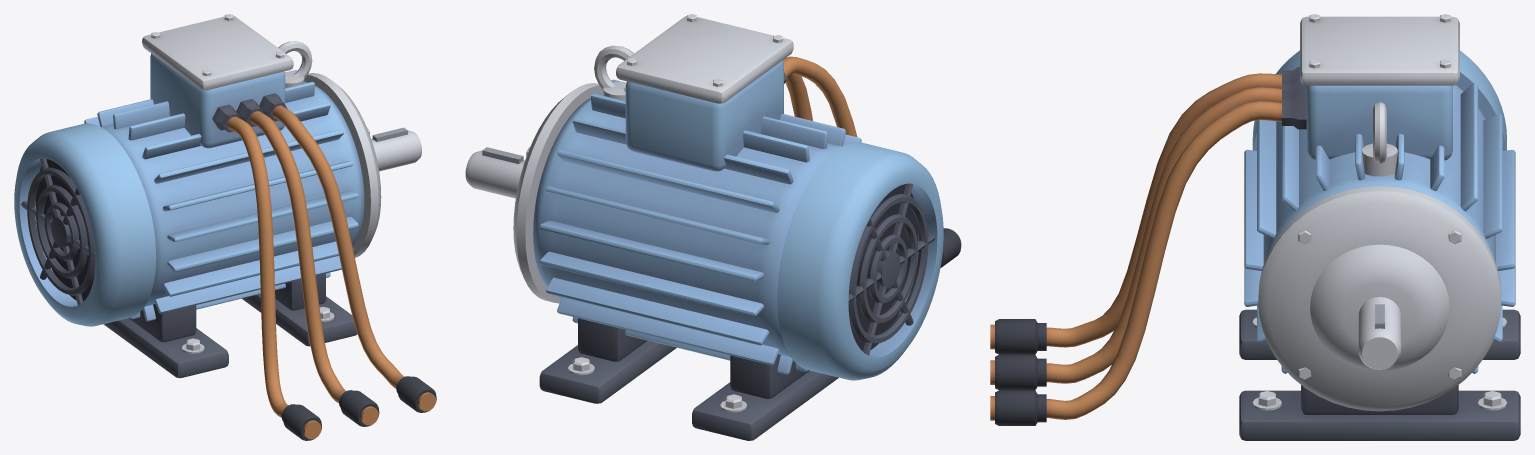
File: electric-motor.obj
3 views of the same model, side by side, from view 1: azimuth 30°, elevation 25°; view 2: azimuth 150°, elevation 25°; view 3: azimuth 270°, elevation 25° (orthographic). The views are drawn at different scales.
Visible parts, largest first — view 1: electric-motor_body, electric-motor_shaft; view 2: electric-motor_body, electric-motor_shaft; view 3: electric-motor_body, electric-motor_shaft.
Part boxes in pixels (x1=…): electric-motor_body: x1=14, y1=14, x2=436, y2=440; electric-motor_shaft: x1=371, y1=127, x2=421, y2=171; electric-motor_body: x1=513, y1=14, x2=961, y2=440; electric-motor_shaft: x1=465, y1=147, x2=524, y2=198; electric-motor_body: x1=990, y1=14, x2=1520, y2=440; electric-motor_shaft: x1=1358, y1=297, x2=1401, y2=369.
Size of the model in its own units: 0.468 by 0.343 by 0.471.
Materials: 2 (2 with a texture image).
